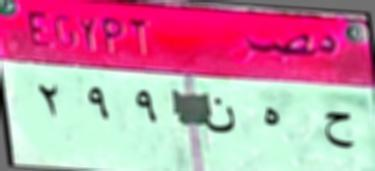2: (35, 78, 64, 120)
7aa: (320, 104, 359, 152)
9: (85, 83, 112, 128), (130, 90, 162, 127)
haa: (256, 100, 286, 134)
noon: (200, 89, 238, 142)
